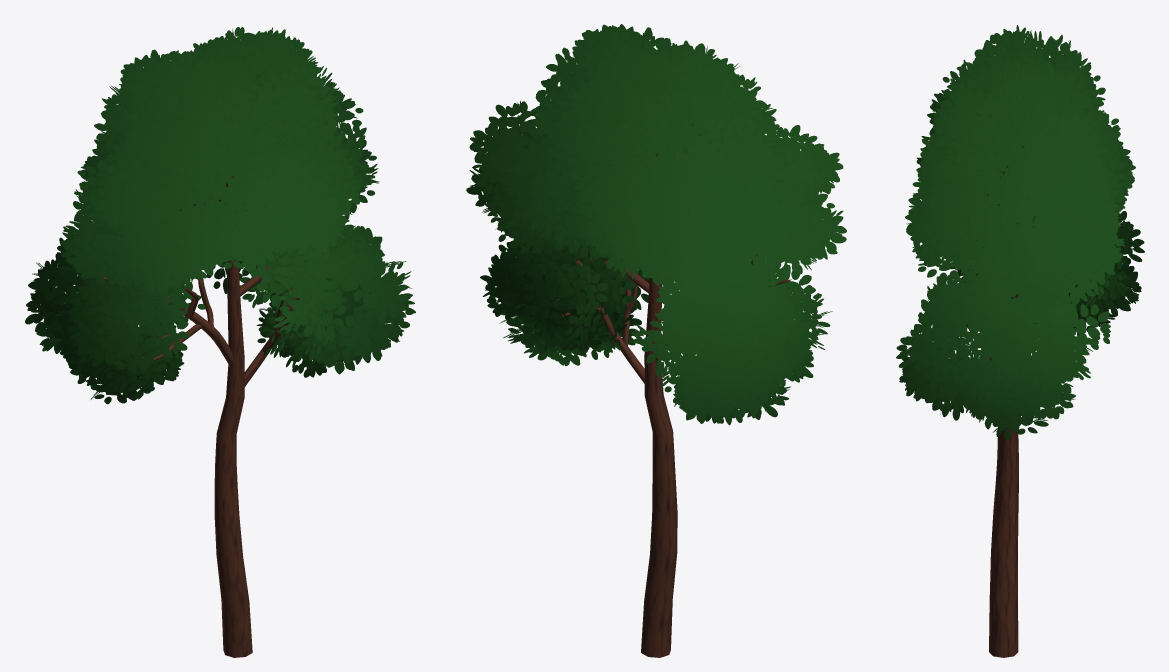
Rendered from normal_tree_1.glb.
3 views of the same model, side by side, from view 1: azimuth 30°, elevation 25°; view 2: azimuth 150°, elevation 25°; view 3: azimuth 270°, elevation 25° (orthographic). The views are drawn at different scales.
Parts seen in each view (by area): view 1: NormalTree_12; view 2: NormalTree_12; view 3: NormalTree_12.
Part boxes in pixels (x1,y1,x2,y2): NormalTree_12: [25, 27, 415, 657]; NormalTree_12: [466, 24, 846, 657]; NormalTree_12: [896, 25, 1144, 657].
Bounding box in the file's own units: 4.05 × 6.87 × 2.74.
Materials: 2 (2 with a texture image).
